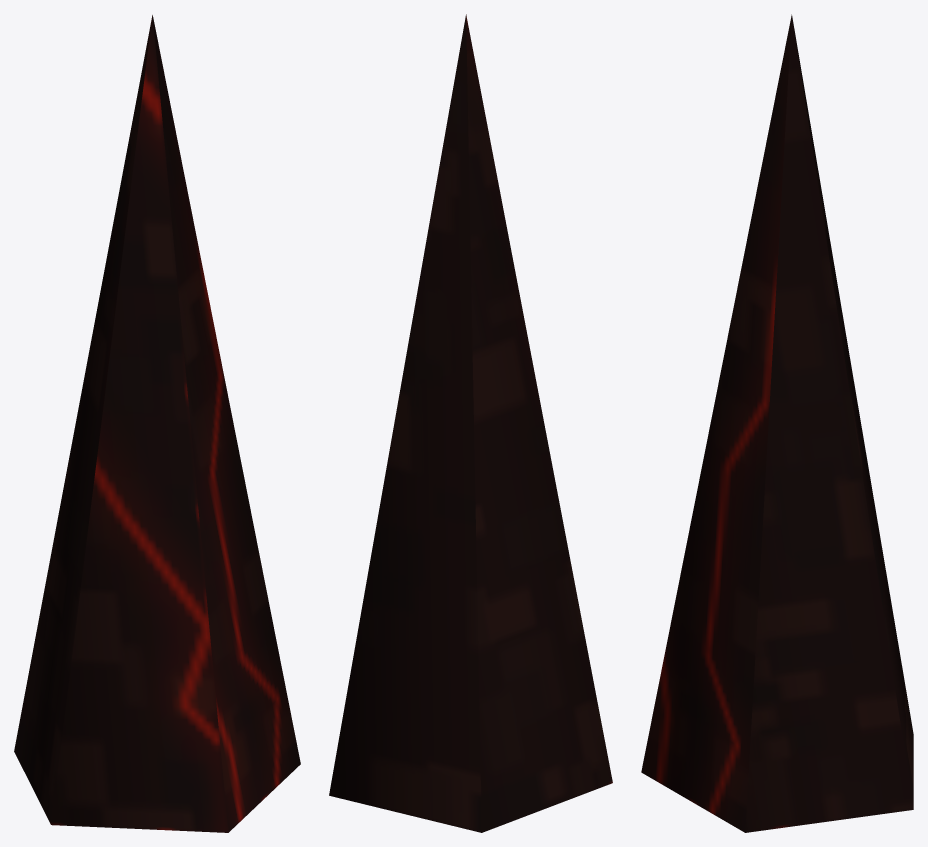
Rendered from rock-spire-far.glb.
3 renders of one model, left to right at view 1: azimuth 30°, elevation 25°; view 2: azimuth 150°, elevation 25°; view 3: azimuth 270°, elevation 25°, orthographic.
Parts seen in each view (by area): view 1: hell rock-spire-far; view 2: hell rock-spire-far; view 3: hell rock-spire-far.
Part boxes in pixels (x1,y1,x2,y2): hell rock-spire-far: [14, 15, 300, 832]; hell rock-spire-far: [329, 14, 612, 832]; hell rock-spire-far: [641, 14, 913, 832].
Size of the model in its own units: 3.42 by 10 by 3.26.
1 material, 1 textured.
